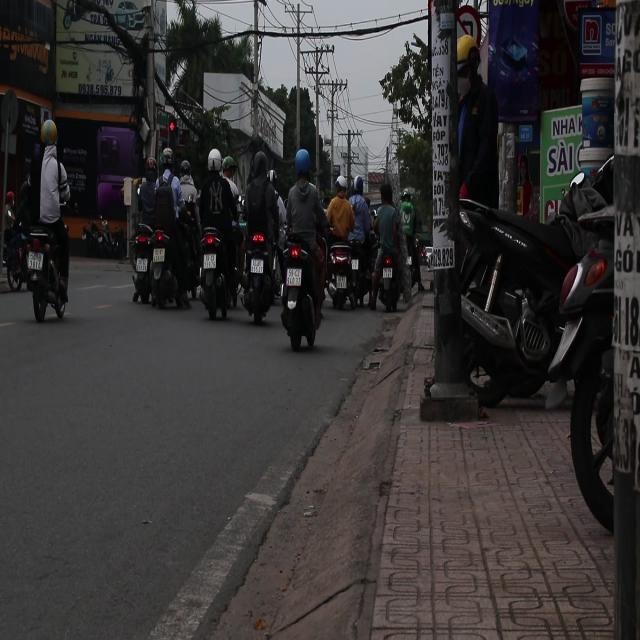motorbike: (279, 220, 326, 352), (26, 226, 68, 325), (198, 222, 234, 334), (148, 226, 188, 312), (244, 228, 272, 330), (326, 241, 360, 311), (130, 212, 151, 306), (379, 248, 405, 316)
